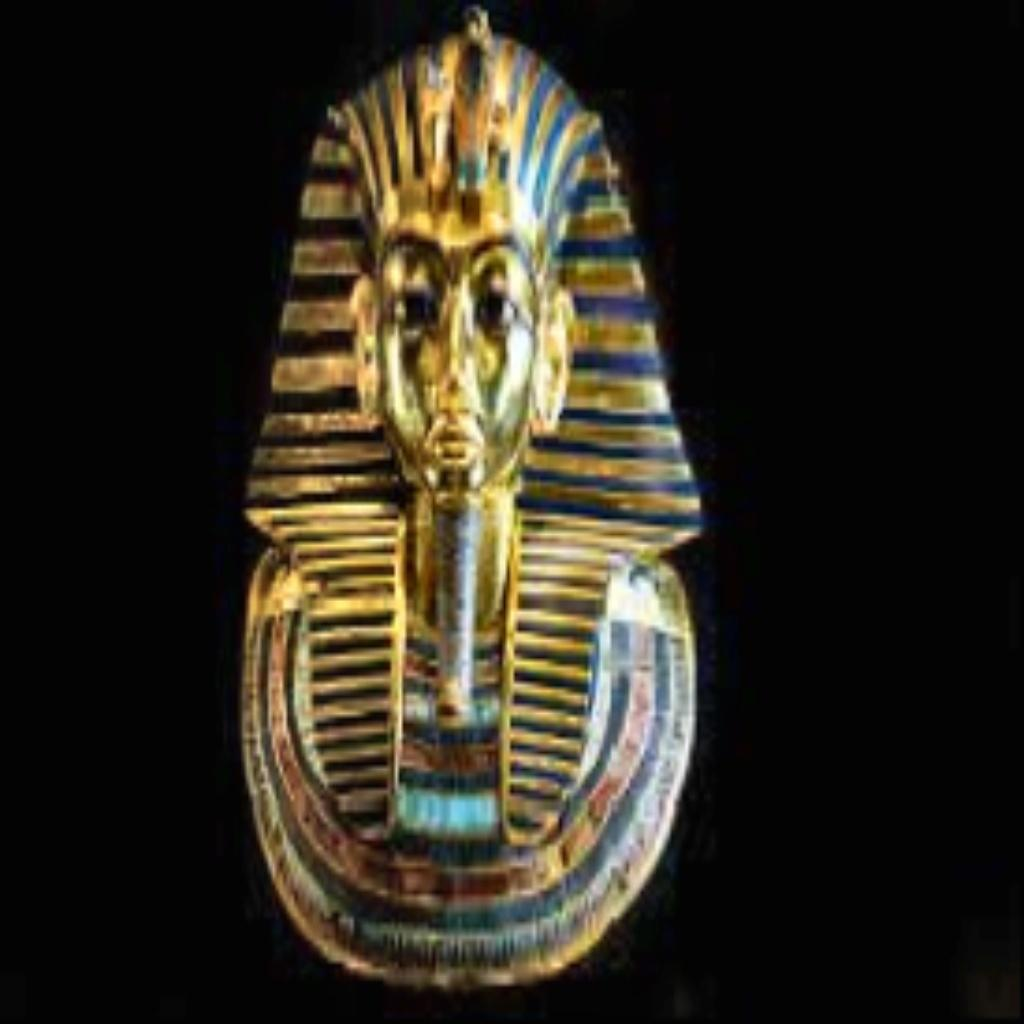Mask of Tutankhamun: (234, 0, 712, 990)
